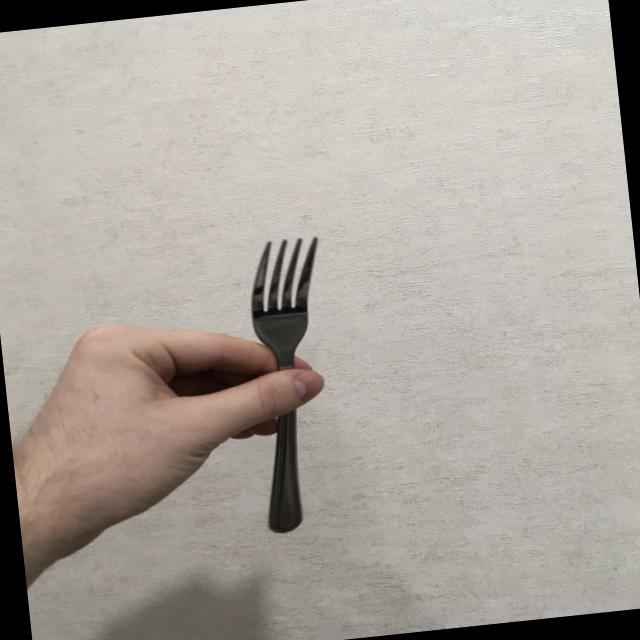fork: (237, 234, 350, 536)
